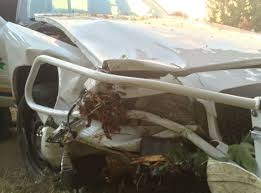Smashed: (17, 20, 211, 131)
